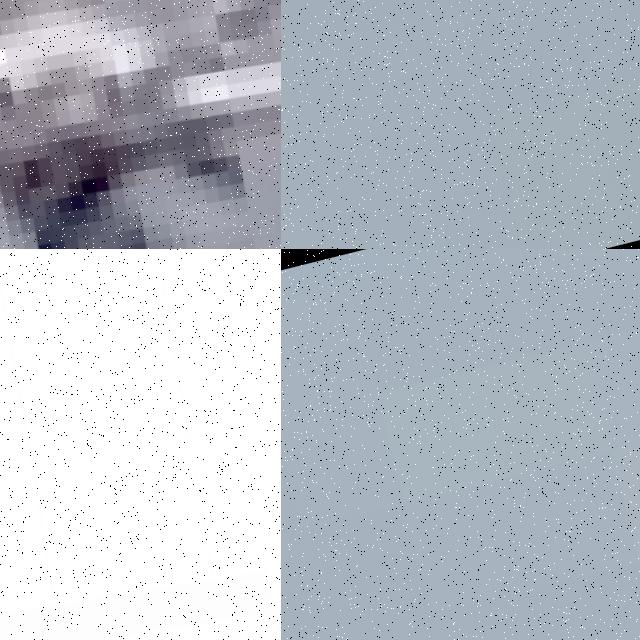drone: (0, 249, 281, 640), (0, 0, 281, 249)
